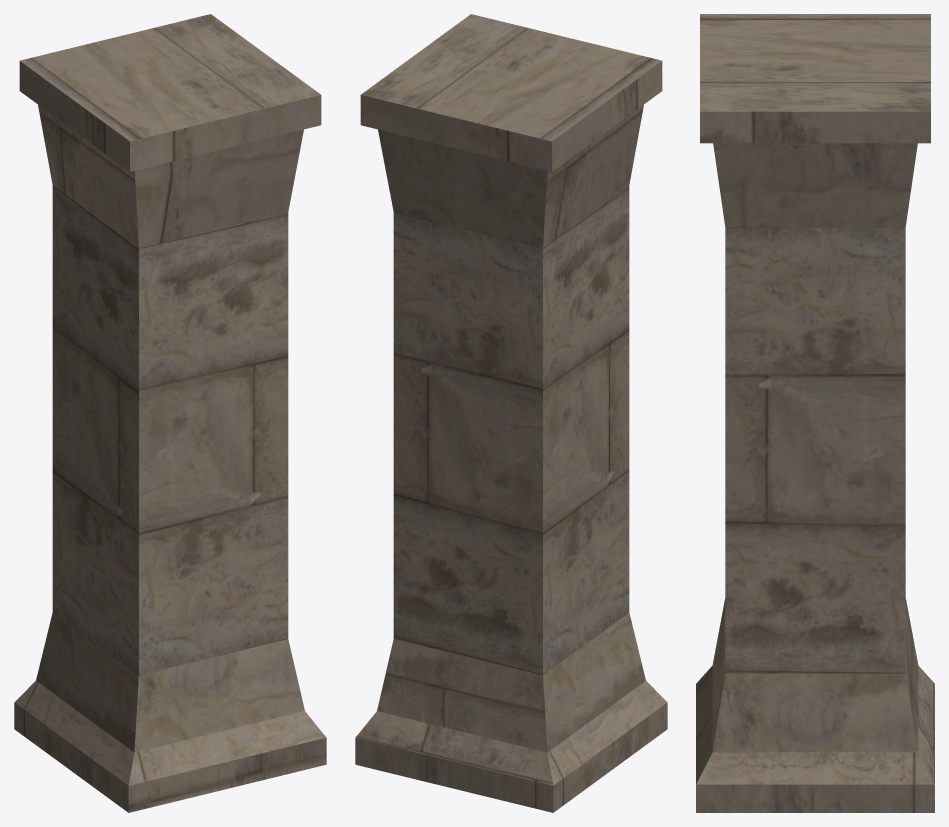
The model's file is pillar.glb.
The picture shows the model from 3 angles, left to right: view 1: azimuth 30°, elevation 25°; view 2: azimuth 150°, elevation 25°; view 3: azimuth 270°, elevation 25°; orthographic projection. The views are drawn at different scales.
Visible parts, largest first — view 1: Cube; view 2: Cube; view 3: Cube.
Boxes of the visible parts, left/top/right/bottom form: Cube: left=14, top=14, right=326, bottom=812; Cube: left=355, top=14, right=667, bottom=812; Cube: left=696, top=14, right=934, bottom=812.
Size of the model in its own units: 1.52 by 4.93 by 1.52.
1 material, 1 textured.
